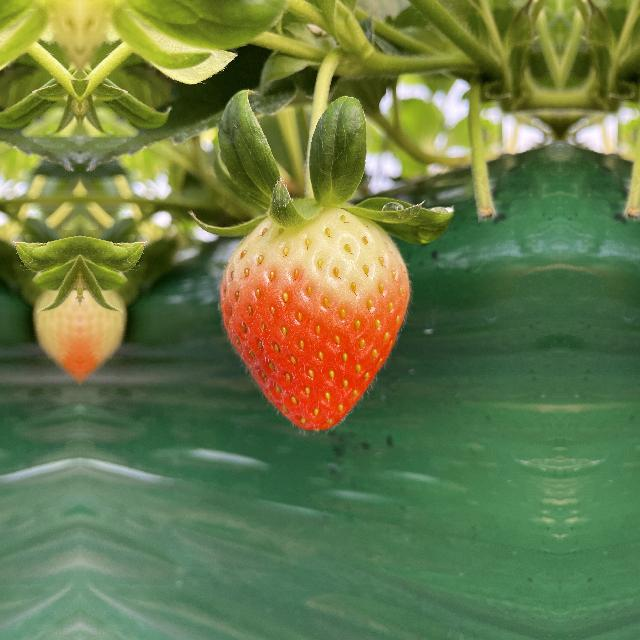Health_100: (212, 202, 414, 440)
